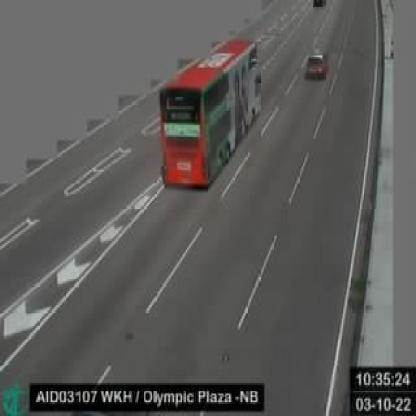Bus: (161, 40, 260, 189)
Car: (305, 54, 325, 76)
